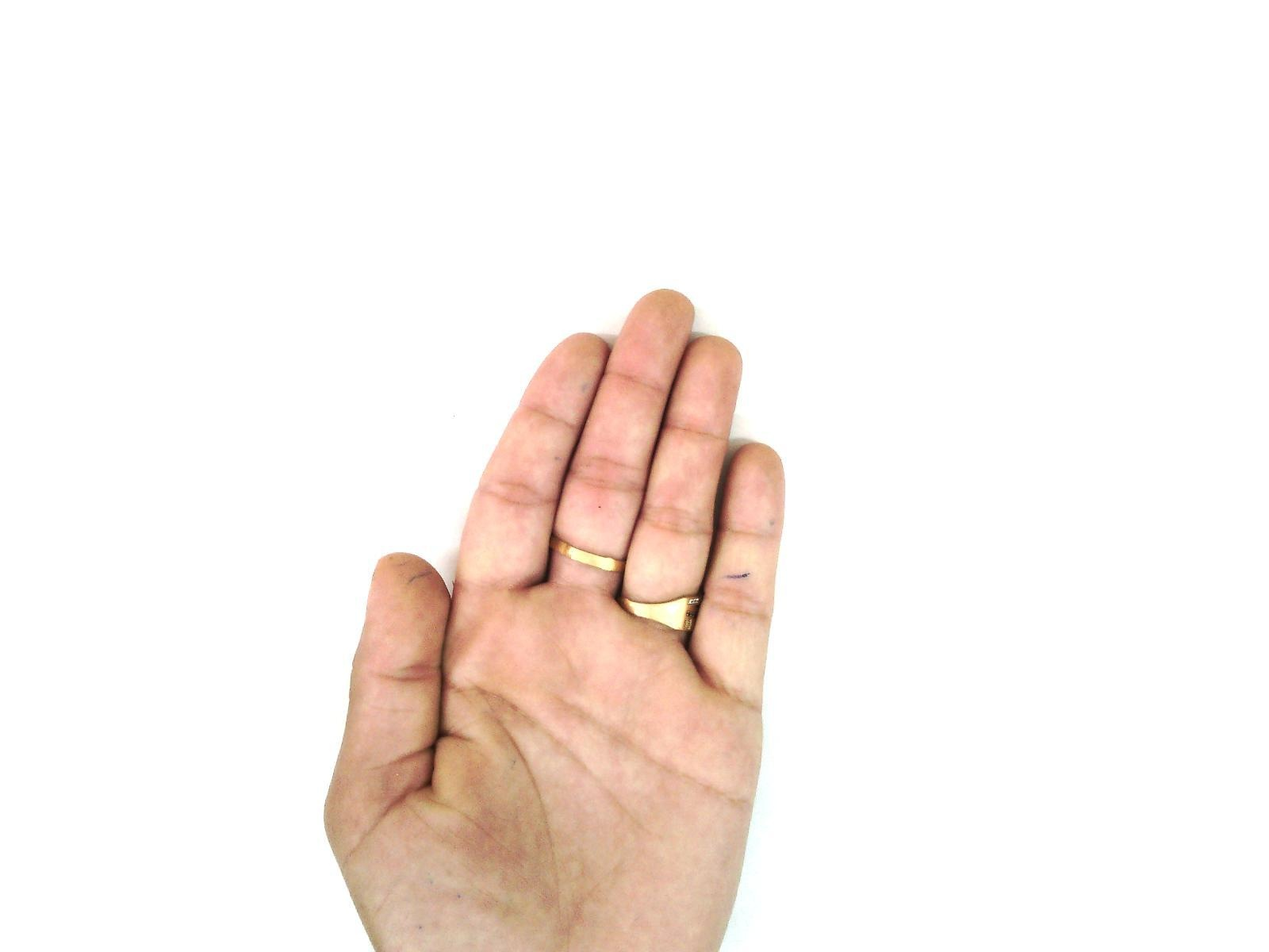open_palm: (322, 287, 789, 951)
